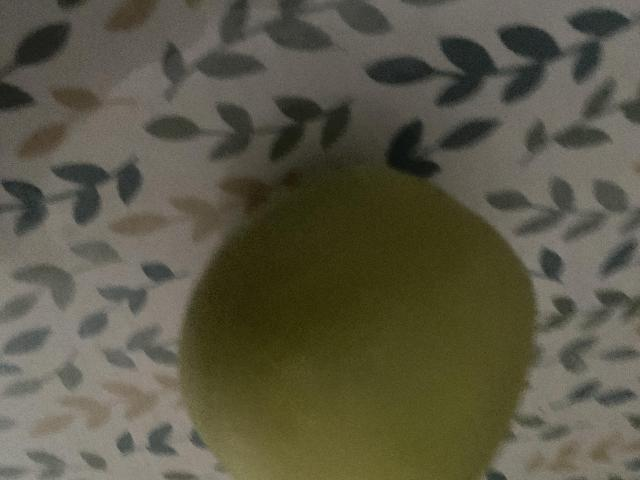Organik: (175, 162, 529, 480)
